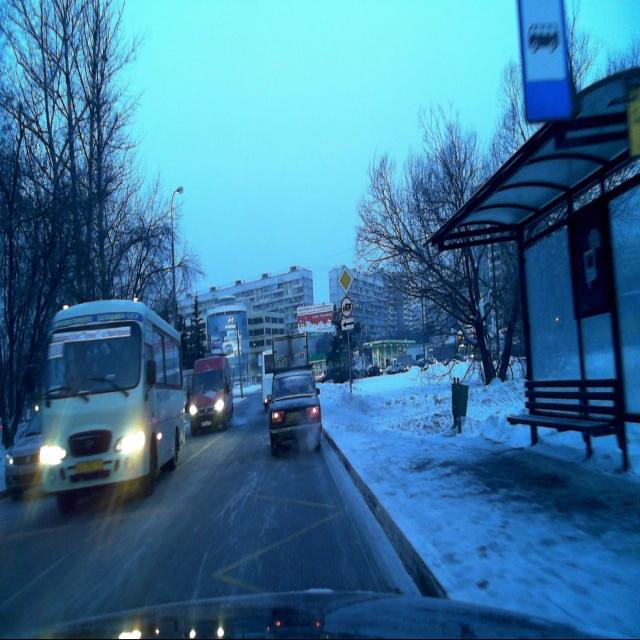road sign: (518, 1, 575, 122), (338, 266, 354, 296), (342, 317, 355, 332), (348, 332, 350, 396)
